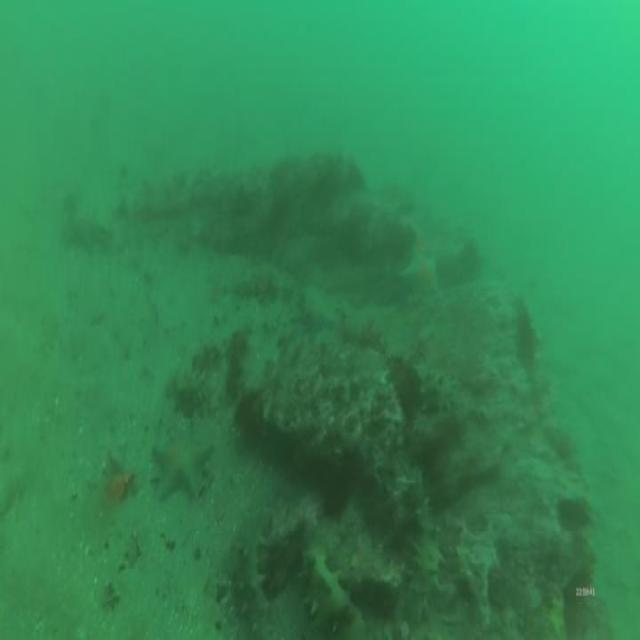echinus: (322, 468, 351, 520)
holothurian: (302, 545, 366, 640), (229, 504, 271, 640), (408, 510, 441, 620), (227, 259, 295, 300), (412, 362, 458, 414), (174, 362, 217, 408)
starfish: (154, 427, 212, 502), (403, 251, 441, 297)
